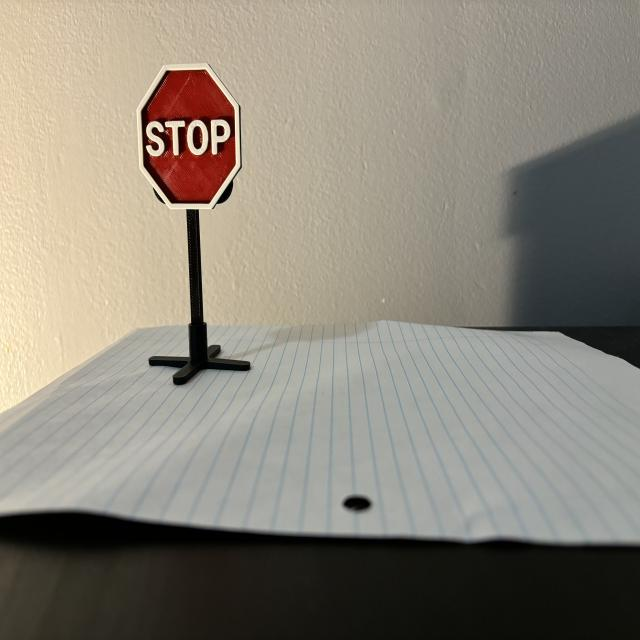sign_stop: (139, 66, 242, 210)
